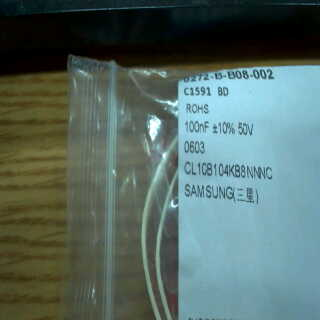100nF: (183, 119, 212, 134)
